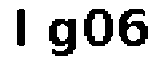0: (82, 6, 115, 48)
6: (120, 8, 149, 47)
g: (46, 15, 79, 60)
l: (11, 4, 30, 48)
